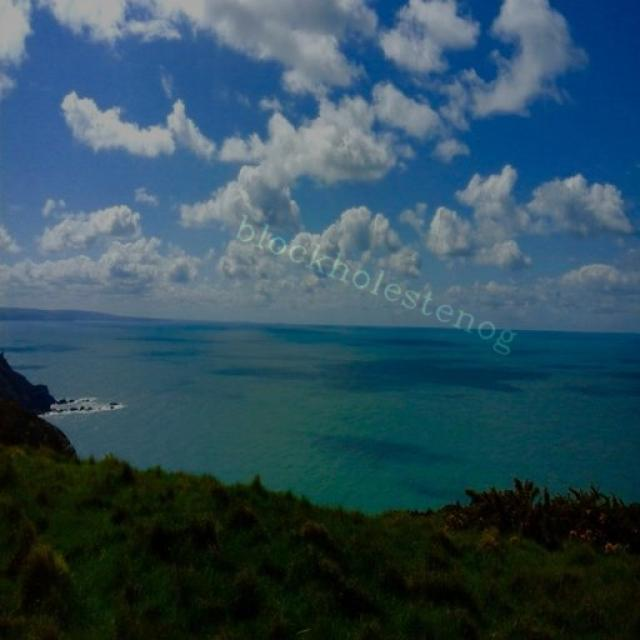watermark: (223, 210, 536, 355)
